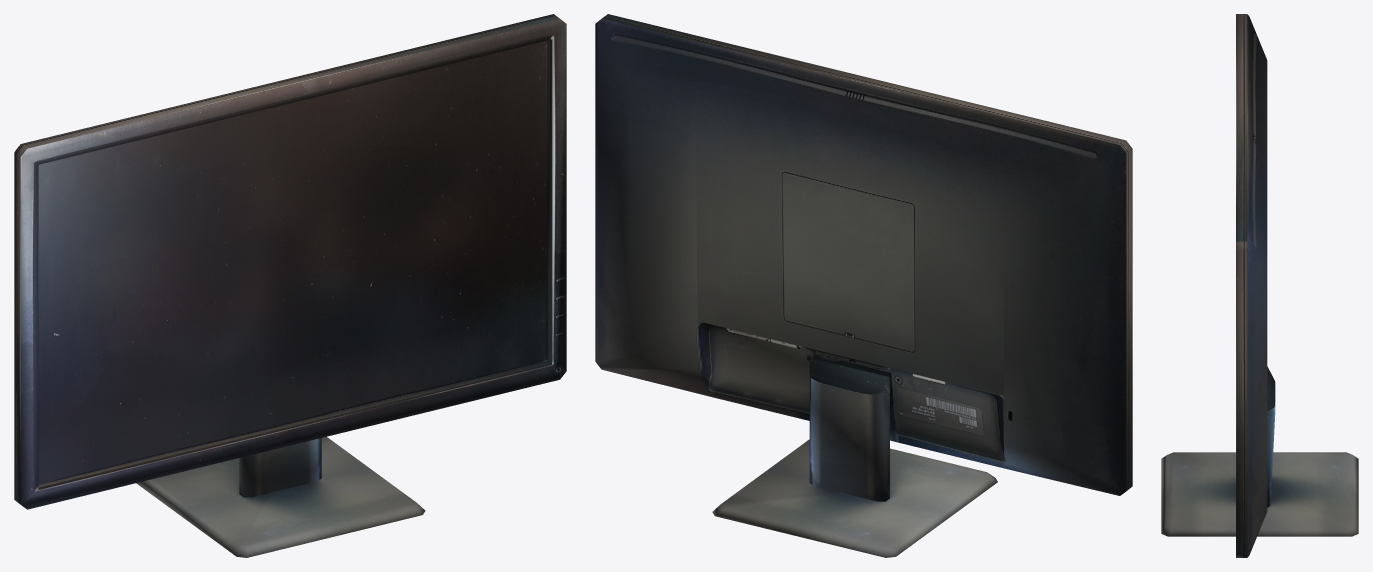
Rendered from screen.FBX.
3 renders of one model, left to right at view 1: azimuth 30°, elevation 25°; view 2: azimuth 150°, elevation 25°; view 3: azimuth 270°, elevation 25°, orthographic. The views are drawn at different scales.
Parts seen in each view (by area): view 1: Object; view 2: Object; view 3: Object.
Boxes of the visible parts, <box> form: Object: <box>14,14,566,557</box>; Object: <box>595,14,1132,557</box>; Object: <box>1161,14,1358,557</box>.
Size of the model in its own units: 40.51 by 29.86 by 14.46.
